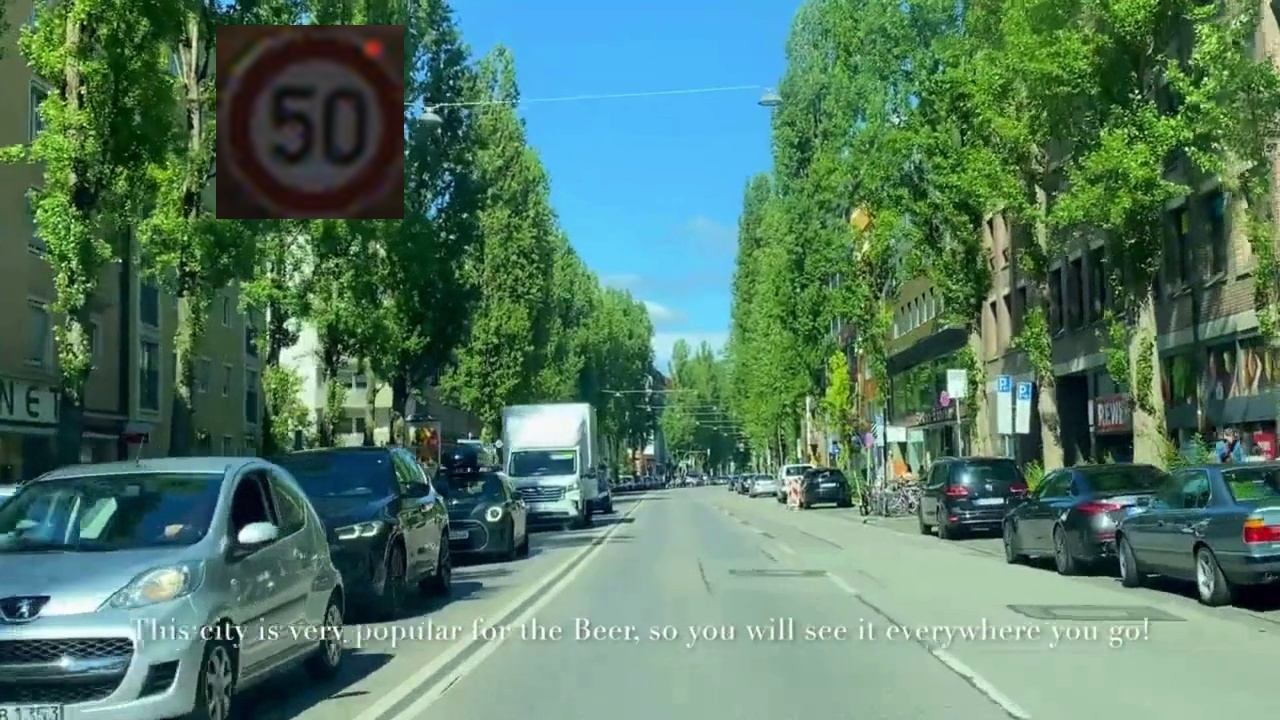Speed 50: (216, 25, 404, 219)
